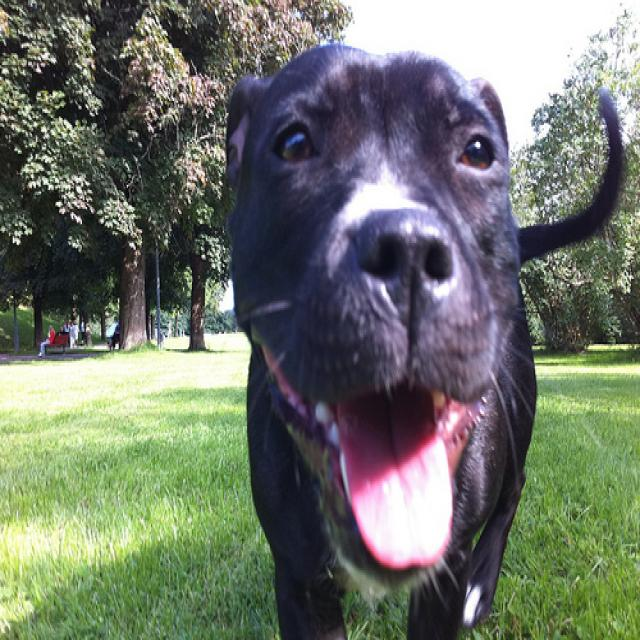dog-staffordshire_bull_terrier: (214, 34, 635, 637)
